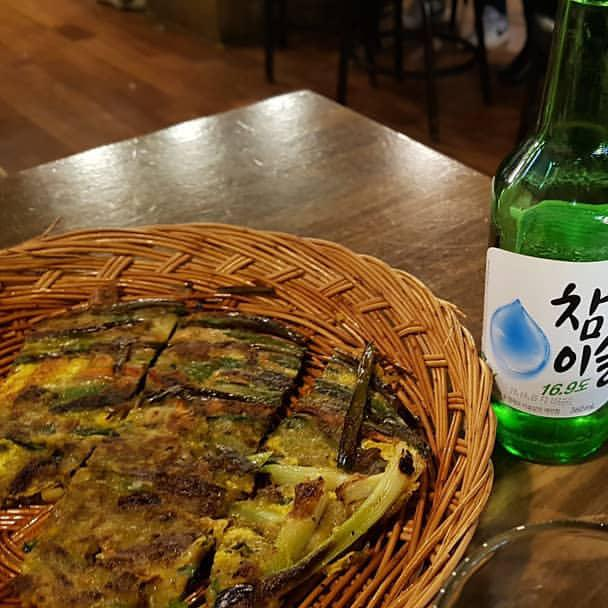soju: (479, 1, 605, 475)
